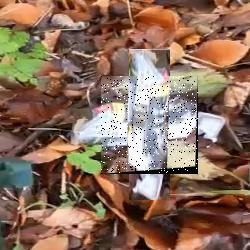restaffald: (101, 76, 198, 174)
